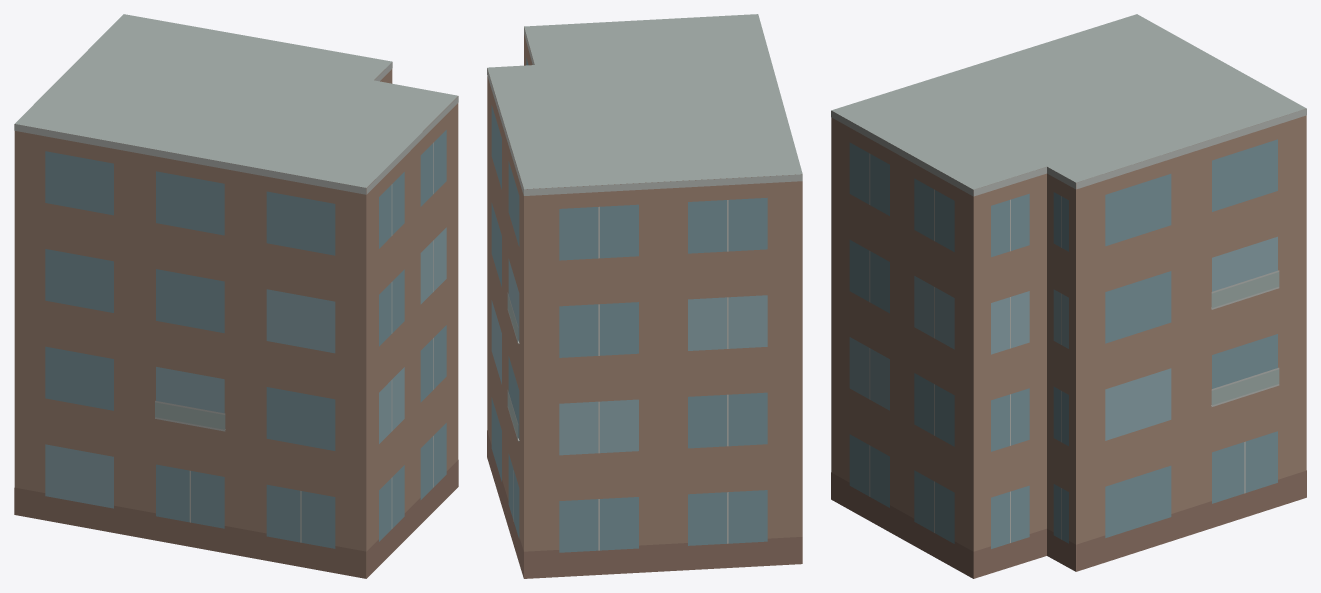
File: survey-upis-32495144.glb
3 views of the same model, side by side, from view 1: azimuth 30°, elevation 25°; view 2: azimuth 150°, elevation 25°; view 3: azimuth 270°, elevation 25° (orthographic).
Parts seen in each view (by area): view 1: survey-upis-32495144.tmp; view 2: survey-upis-32495144.tmp; view 3: survey-upis-32495144.tmp.
Boxes of the visible parts, left/top/right/bottom form: survey-upis-32495144.tmp: left=14, top=14, right=458, bottom=578; survey-upis-32495144.tmp: left=487, top=14, right=802, bottom=578; survey-upis-32495144.tmp: left=831, top=14, right=1306, bottom=578.
Bounding box in the file's own units: 13.44 × 13.87 × 15.37.
